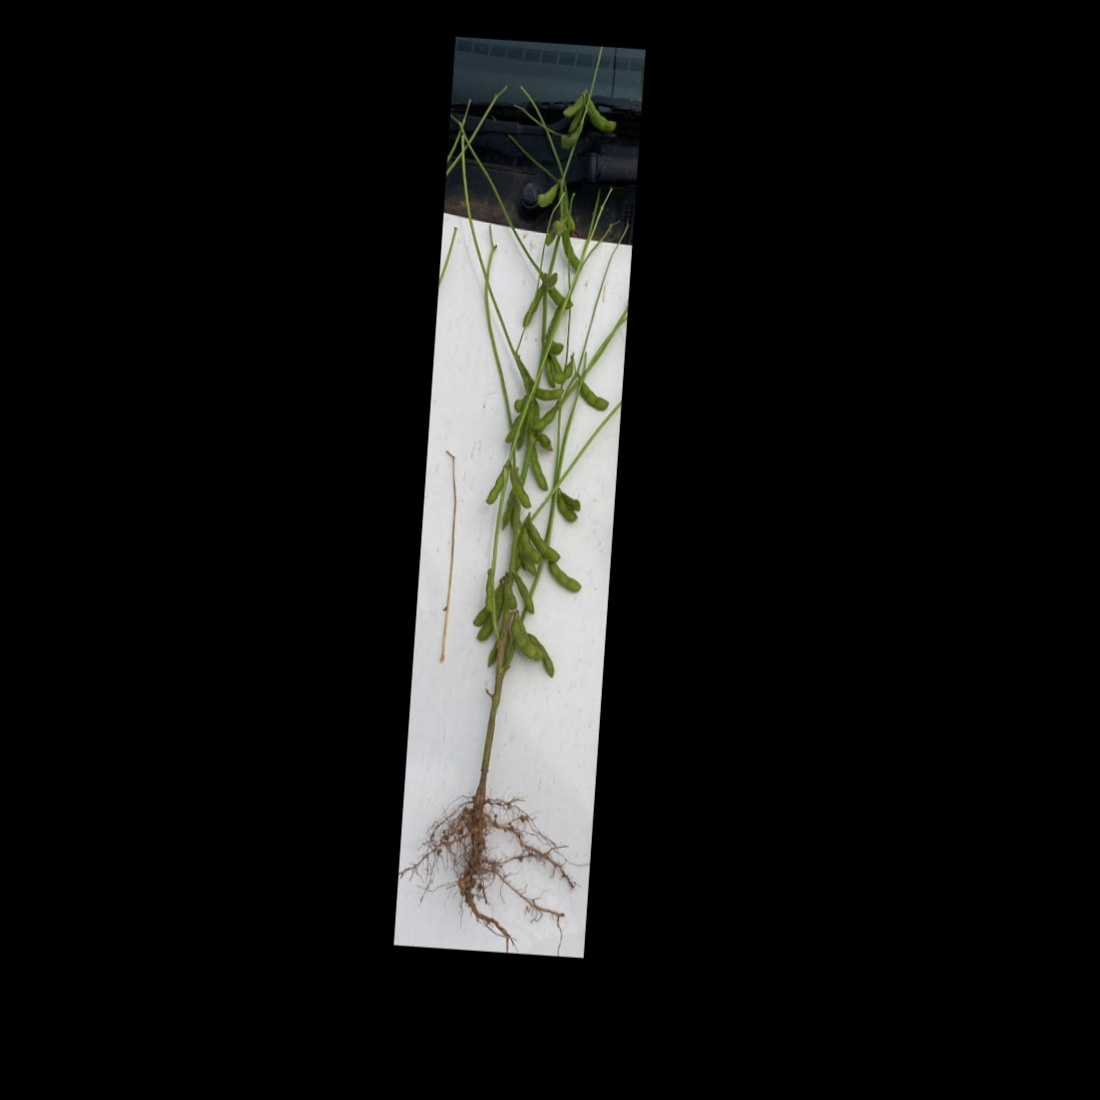pod: (521, 519, 565, 565), (501, 463, 535, 512), (505, 618, 542, 662), (543, 559, 585, 595), (527, 443, 552, 497), (577, 378, 612, 413), (529, 398, 562, 435), (483, 461, 505, 509), (554, 493, 580, 524)
soy: (409, 55, 636, 910)
